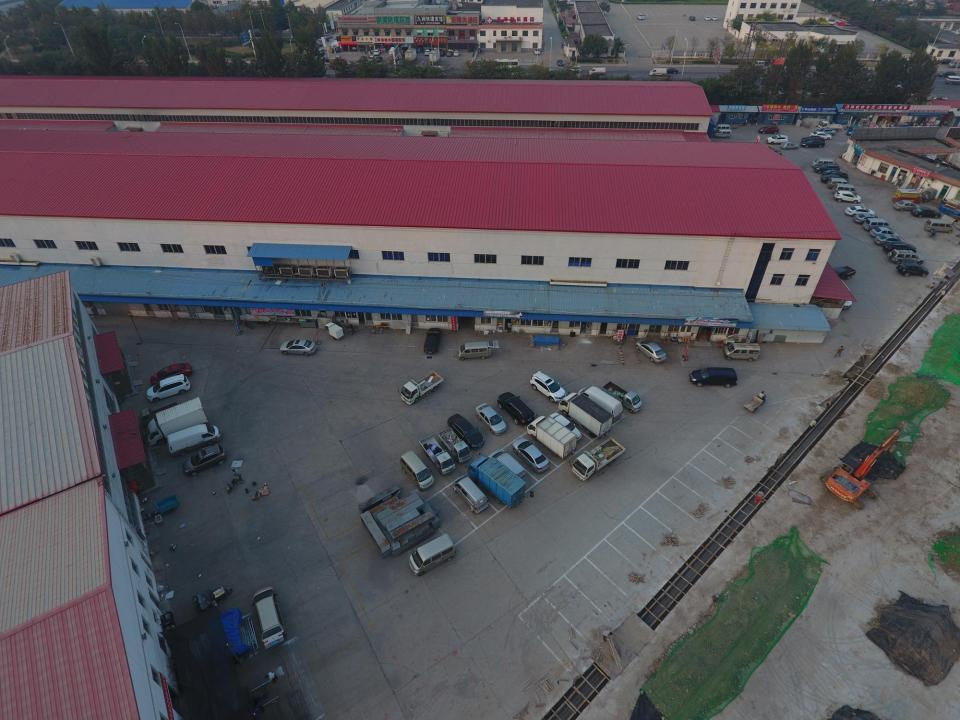car: (253, 585, 285, 650), (447, 412, 485, 450), (180, 444, 224, 474), (513, 437, 550, 472), (497, 390, 534, 424), (144, 375, 188, 402), (492, 450, 529, 482), (532, 372, 567, 402), (477, 402, 508, 435), (826, 277, 856, 311), (548, 413, 583, 440), (151, 363, 190, 384), (635, 340, 667, 364), (277, 338, 318, 354), (898, 258, 930, 278), (892, 249, 925, 266), (882, 238, 916, 254), (425, 328, 442, 356), (875, 229, 898, 246), (834, 190, 858, 202), (830, 266, 854, 278), (836, 182, 858, 195), (845, 207, 875, 216), (816, 162, 838, 174), (822, 170, 848, 180), (868, 227, 894, 237), (912, 207, 940, 216), (802, 136, 822, 148), (854, 215, 880, 224), (827, 175, 849, 185), (896, 198, 917, 208), (766, 134, 786, 144), (781, 141, 800, 150), (760, 124, 777, 134), (812, 132, 832, 139), (666, 67, 678, 73)
truck: (464, 453, 526, 507), (150, 398, 208, 446), (556, 391, 614, 439), (526, 414, 578, 460), (573, 436, 625, 481), (574, 384, 624, 419), (138, 402, 190, 433), (169, 424, 220, 452), (403, 369, 443, 404), (602, 380, 644, 412), (421, 436, 455, 474), (439, 427, 470, 463), (814, 118, 844, 133)
van: (408, 532, 455, 576), (453, 472, 490, 516), (400, 449, 434, 489), (690, 367, 738, 388), (460, 340, 500, 360), (725, 340, 760, 360), (927, 220, 954, 234), (863, 218, 889, 230), (712, 122, 732, 134), (811, 158, 833, 166), (713, 129, 731, 137), (648, 68, 664, 74)
